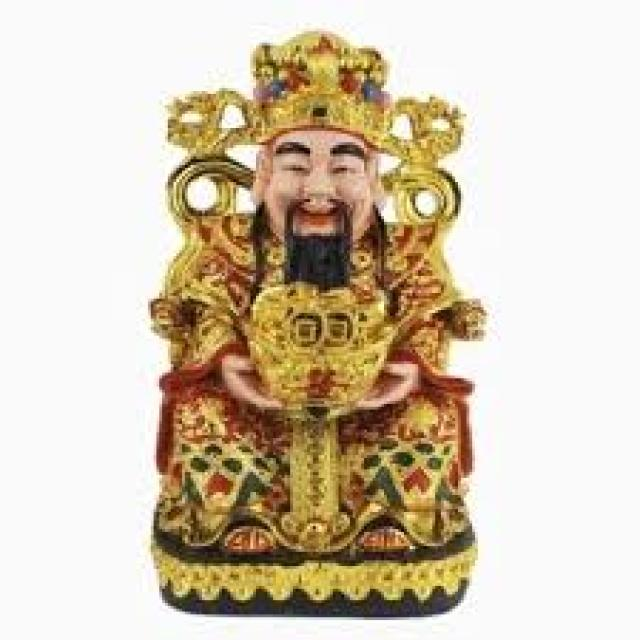Cai shen: (155, 18, 474, 540)
